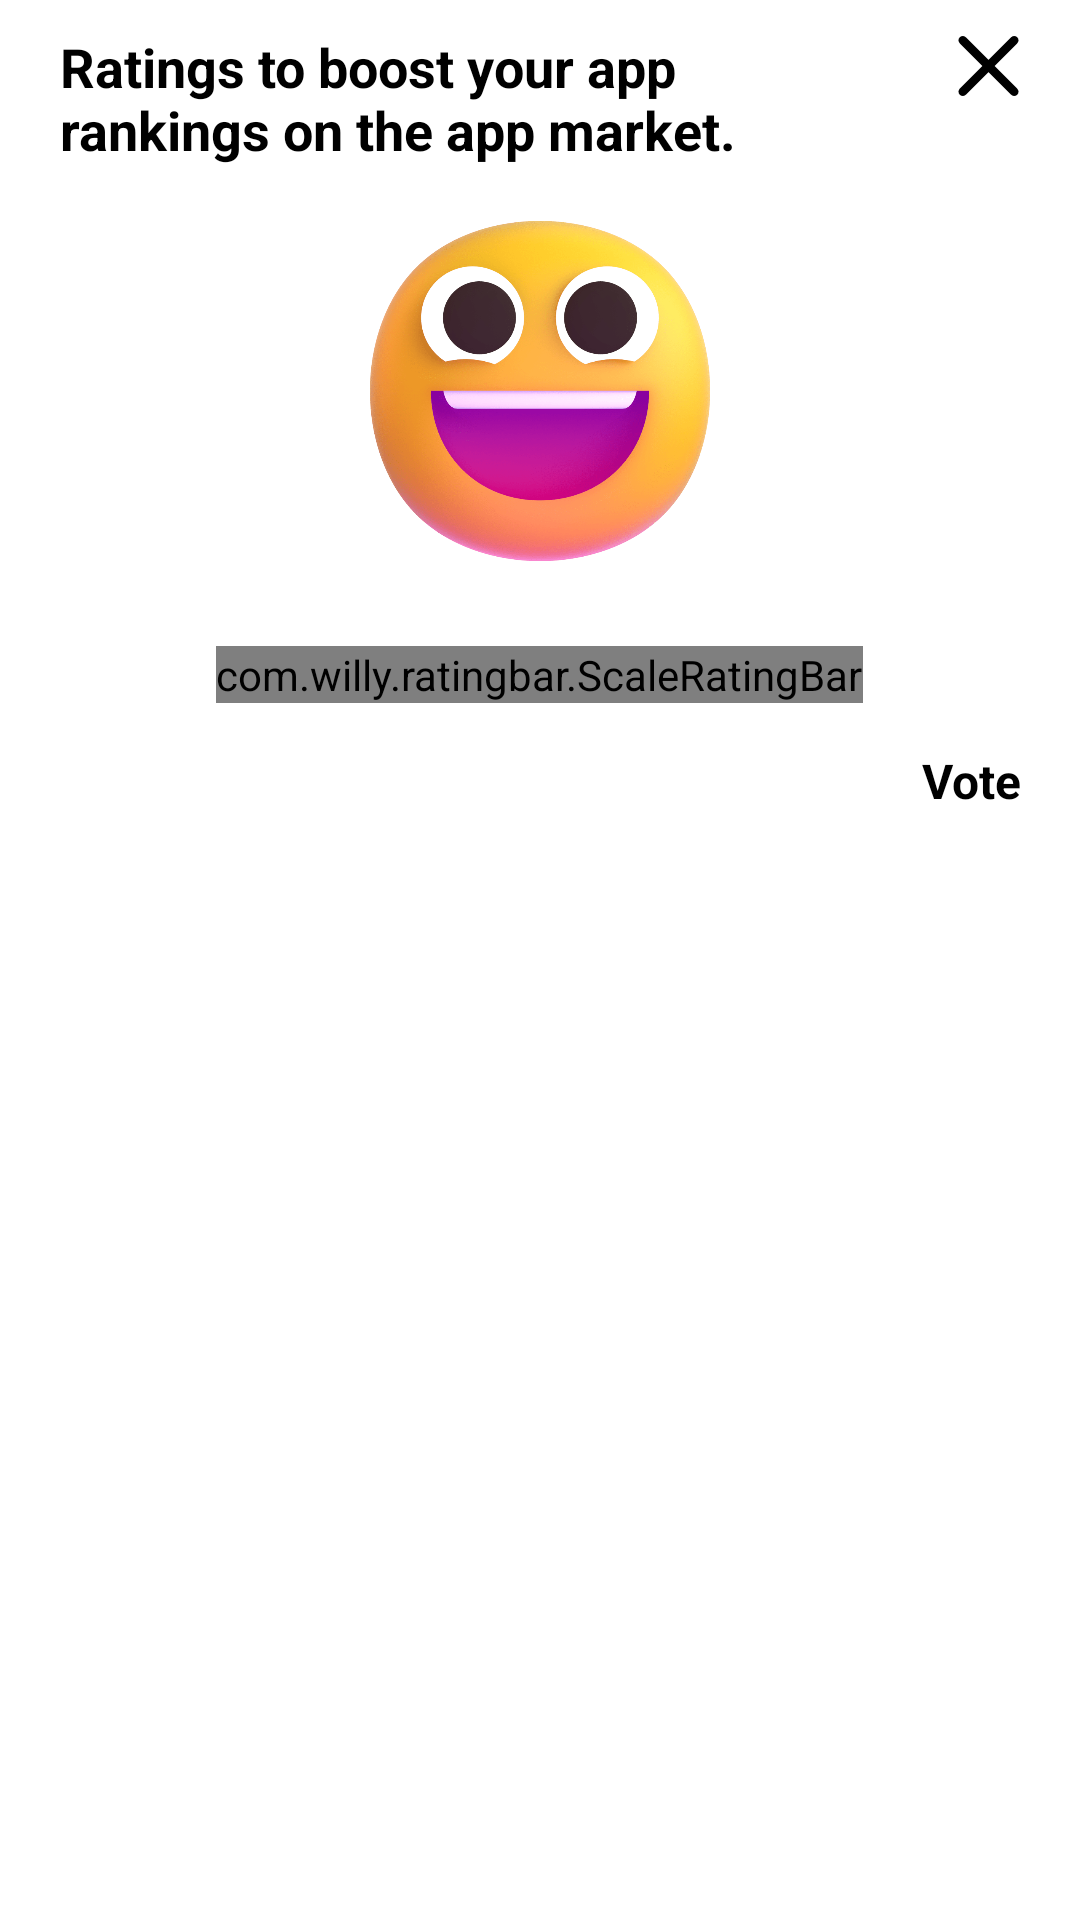

Icons on this 1080×1920 Android screen, each with the point to tap as (x=x, y=y):
smile: (x=540, y=391)
